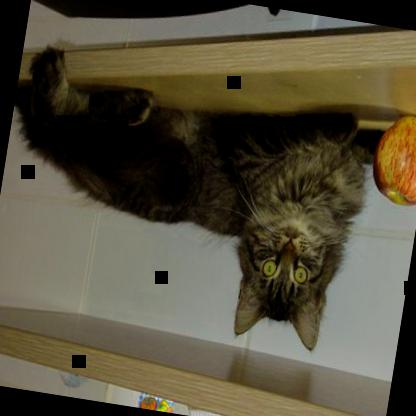cat: (0, 40, 387, 357)
